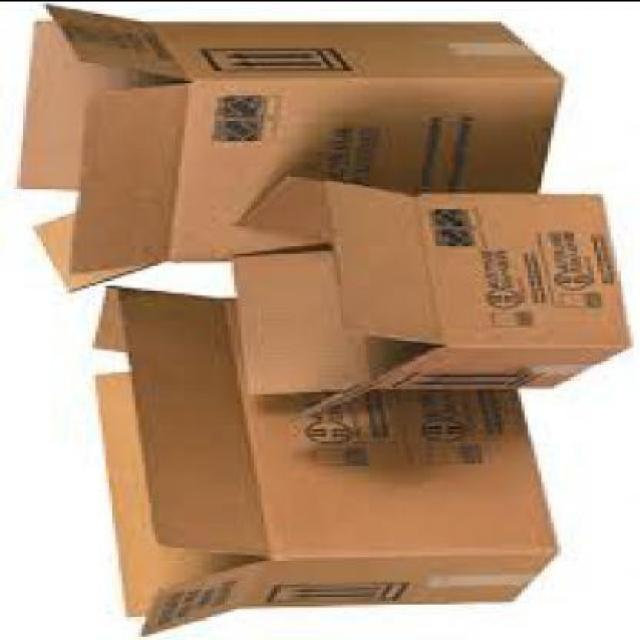box: (97, 288, 558, 639), (14, 6, 561, 292), (231, 179, 631, 419)
